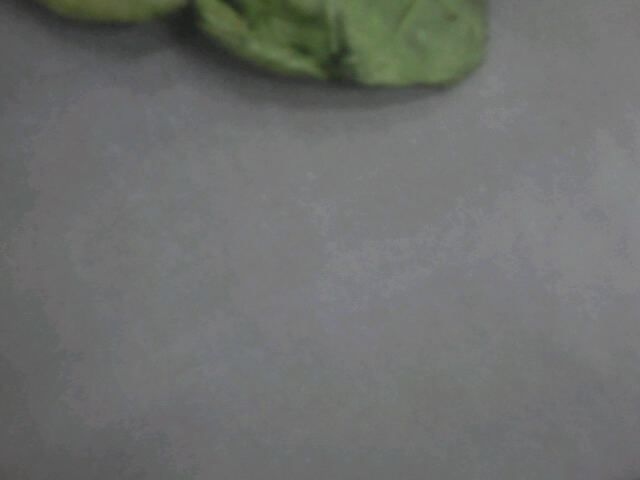yellow: (46, 1, 480, 95)
